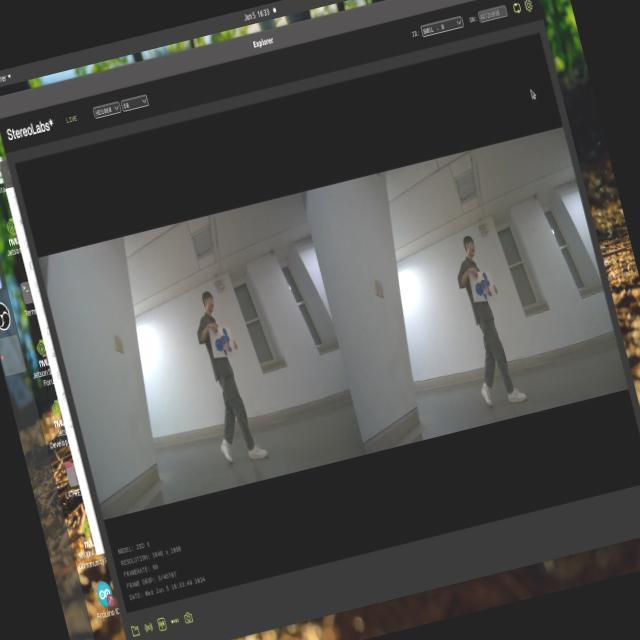blue: (467, 262, 507, 308), (200, 321, 243, 362)
